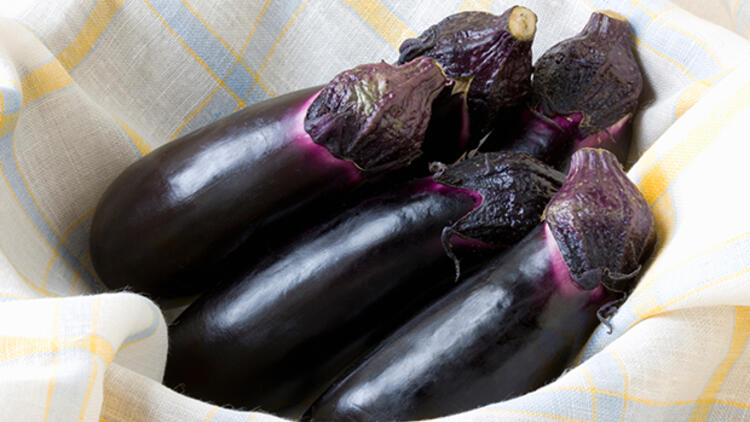Eggplant: (147, 152, 661, 418)
